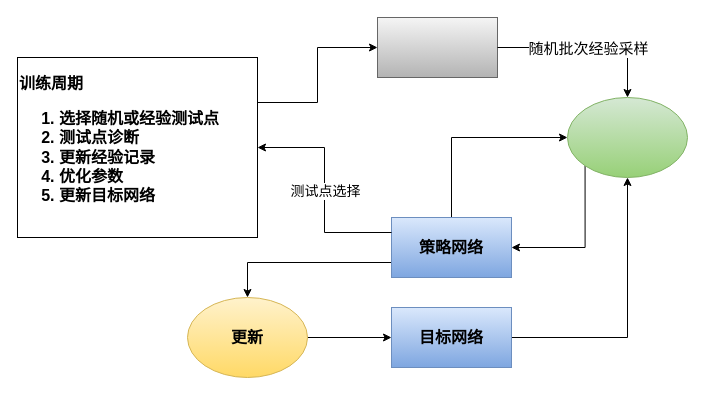
This 705x395 diagram has some shape labels left out. The box of each missing label's shape, as (x1, y1, x2, y2) in pixels:
优化: (566, 96, 688, 178)
经验回放: (376, 16, 498, 78)
